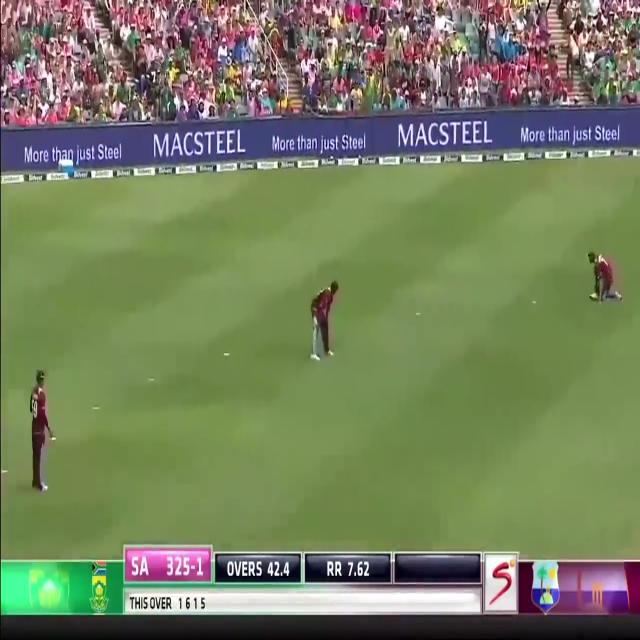Fielder: (28, 369, 52, 493), (308, 272, 340, 361), (585, 247, 620, 297)
